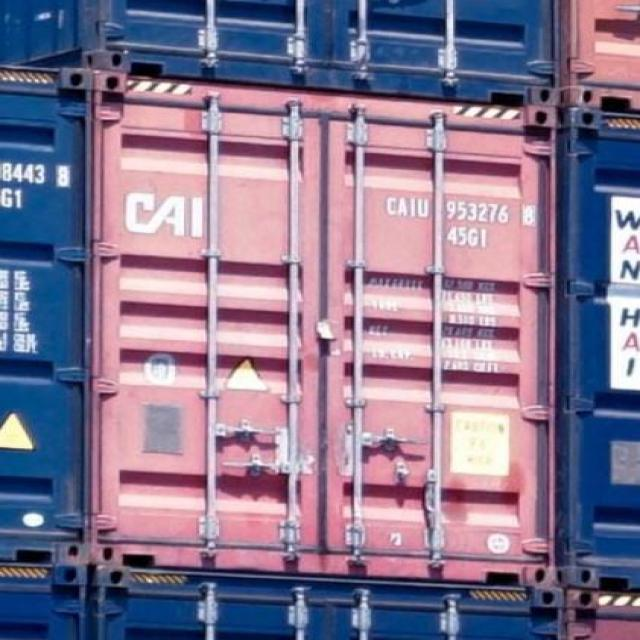ISO: (448, 226, 495, 247)
container_number: (387, 196, 540, 225)
